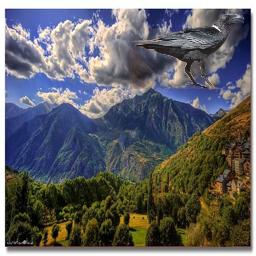Crow: (130, 12, 244, 89)
